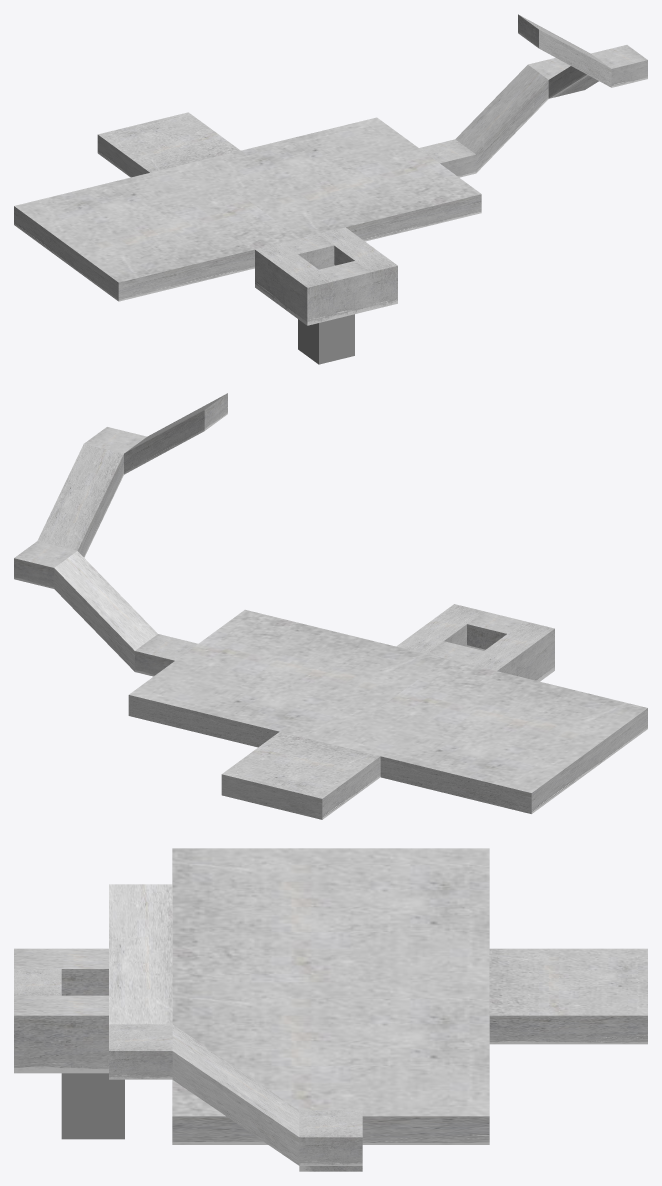
File: garden_map.fbx
3 renders of one model, top to bottom at view 1: azimuth 30°, elevation 25°; view 2: azimuth 150°, elevation 25°; view 3: azimuth 270°, elevation 25°, orthographic. The views are drawn at different scales.
Parts seen in each view (by area): view 1: polySurface37, polySurface38, polySurface36, polySurface33, polySurface42, polySurface32, polySurface45, polySurface39, polySurface35, polySurface40, polySurface44, polySurface34 (+2 smaller); view 2: polySurface37, polySurface38, polySurface36, polySurface43, polySurface42, polySurface33, polySurface39, polySurface32, polySurface41, polySurface44, polySurface35, polySurface40 (+1 smaller); view 3: polySurface38, polySurface37, polySurface36, polySurface39, polySurface32, polySurface43, polySurface45, polySurface40, polySurface41, polySurface33, polySurface35.
Part boxes in pixels (x1,y1,x2,y2): polySurface37: [14, 161, 299, 301]; polySurface38: [196, 117, 481, 241]; polySurface36: [97, 112, 240, 177]; polySurface33: [255, 243, 334, 325]; polySurface42: [455, 65, 548, 172]; polySurface32: [319, 227, 397, 310]; polySurface45: [298, 264, 354, 364]; polySurface39: [518, 14, 611, 87]; polySurface35: [319, 261, 370, 318]; polySurface40: [591, 45, 647, 87]; polySurface44: [419, 139, 476, 177]; polySurface34: [282, 234, 334, 268]; polySurface37: [330, 659, 647, 813]; polySurface38: [128, 609, 445, 747]; polySurface36: [221, 732, 380, 819]; polySurface43: [37, 444, 123, 557]; polySurface42: [54, 551, 157, 671]; polySurface33: [467, 621, 554, 681]; polySurface39: [124, 393, 227, 474]; polySurface32: [396, 604, 483, 653]; polySurface41: [14, 541, 76, 588]; polySurface44: [135, 634, 197, 676]; polySurface35: [467, 611, 524, 649]; polySurface40: [84, 427, 146, 453]; polySurface38: [172, 982, 489, 1144]; polySurface37: [172, 848, 489, 982]; polySurface36: [489, 948, 647, 1044]; polySurface39: [109, 884, 172, 1024]; polySurface32: [14, 995, 108, 1073]; polySurface43: [172, 1024, 299, 1165]; polySurface45: [61, 1073, 124, 1139]; polySurface40: [109, 1024, 172, 1079]; polySurface41: [299, 1110, 362, 1165]; polySurface33: [14, 948, 108, 995]; polySurface35: [14, 969, 61, 995].
Size of the model in its own units: 56 by 28 by 40.
2 materials, 1 textured.
